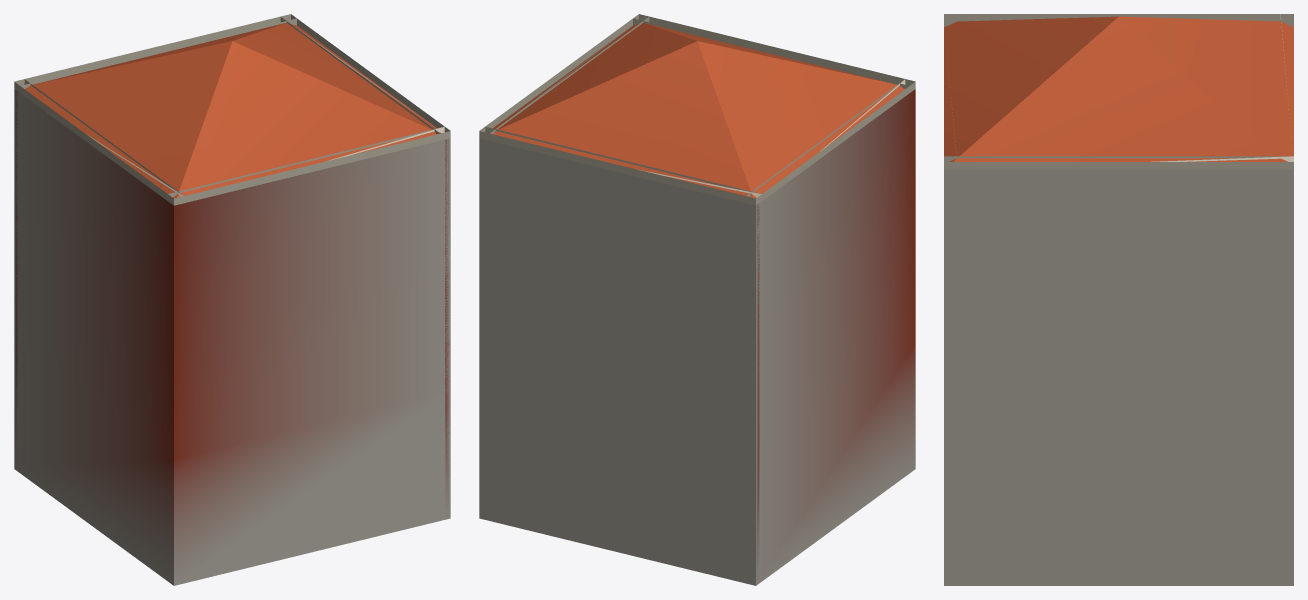
The model's file is house_3.glb.
3 renders of one model, left to right at view 1: azimuth 30°, elevation 25°; view 2: azimuth 150°, elevation 25°; view 3: azimuth 270°, elevation 25°, orthographic. The views are drawn at different scales.
Visible parts, largest first — view 1: house_3__wall_0_xb, house_3__wall_3_xb, house_3_roof_front_xb, house_3_roof_left_xb, house_3_roof_right_xb, house_3__cornice_0_xb, house_3__cornice_2_xb, house_3__wall_1_xb, house_3__cornice_3_xb, house_3__cornice_1_xb, house_3__wall_2_xb, house_3_roof_back_xb; view 2: house_3__wall_2_xb, house_3__wall_3_xb, house_3_roof_back_xb, house_3_roof_left_xb, house_3_roof_right_xb, house_3__cornice_2_xb, house_3__cornice_0_xb, house_3__cornice_3_xb, house_3__cornice_1_xb, house_3__wall_1_xb, house_3_roof_front_xb; view 3: house_3__wall_1_xb, house_3_roof_right_xb, house_3_roof_front_xb, house_3_roof_back_xb, house_3__cornice_1_xb, house_3__wall_0_xb, house_3__cornice_3_xb, house_3__wall_2_xb.
Boxes of the visible parts, bbox=[...] form: house_3__wall_0_xb: bbox=[170, 138, 450, 585]; house_3__wall_3_xb: bbox=[14, 90, 179, 585]; house_3_roof_front_xb: bbox=[177, 41, 436, 197]; house_3_roof_left_xb: bbox=[25, 41, 232, 198]; house_3_roof_right_xb: bbox=[233, 23, 441, 133]; house_3__cornice_0_xb: bbox=[168, 126, 450, 205]; house_3__cornice_2_xb: bbox=[14, 14, 296, 92]; house_3__wall_1_xb: bbox=[445, 138, 450, 519]; house_3__cornice_3_xb: bbox=[14, 79, 184, 204]; house_3__cornice_1_xb: bbox=[280, 14, 450, 138]; house_3__wall_2_xb: bbox=[14, 89, 17, 470]; house_3_roof_back_xb: bbox=[36, 23, 284, 83]; house_3__wall_2_xb: bbox=[479, 139, 759, 585]; house_3__wall_3_xb: bbox=[751, 89, 915, 584]; house_3_roof_back_xb: bbox=[493, 41, 752, 197]; house_3_roof_left_xb: bbox=[697, 41, 904, 198]; house_3_roof_right_xb: bbox=[488, 23, 696, 133]; house_3__cornice_2_xb: bbox=[479, 126, 761, 205]; house_3__cornice_0_xb: bbox=[633, 14, 915, 90]; house_3__cornice_3_xb: bbox=[745, 79, 915, 205]; house_3__cornice_1_xb: bbox=[479, 14, 649, 140]; house_3__wall_1_xb: bbox=[479, 138, 484, 519]; house_3_roof_front_xb: bbox=[645, 23, 893, 83]; house_3__wall_1_xb: bbox=[944, 169, 1293, 585]; house_3_roof_right_xb: bbox=[953, 17, 1284, 161]; house_3_roof_front_xb: bbox=[944, 16, 1118, 161]; house_3_roof_back_xb: bbox=[1119, 16, 1293, 161]; house_3__cornice_1_xb: bbox=[944, 156, 1293, 169]; house_3__wall_0_xb: bbox=[944, 169, 950, 585]; house_3__cornice_3_xb: bbox=[944, 14, 1293, 27]; house_3__wall_2_xb: bbox=[1287, 170, 1293, 585].
Bounding box in the file's own units: 0.8 × 1.25 × 0.8.
